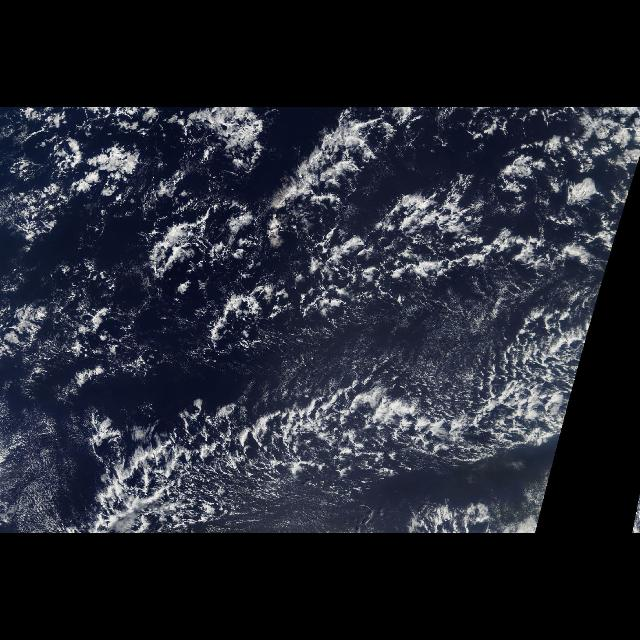Fish: (61, 326, 587, 532)
Gravel: (4, 107, 640, 533)
Sugar: (3, 398, 91, 528), (396, 299, 520, 385)
